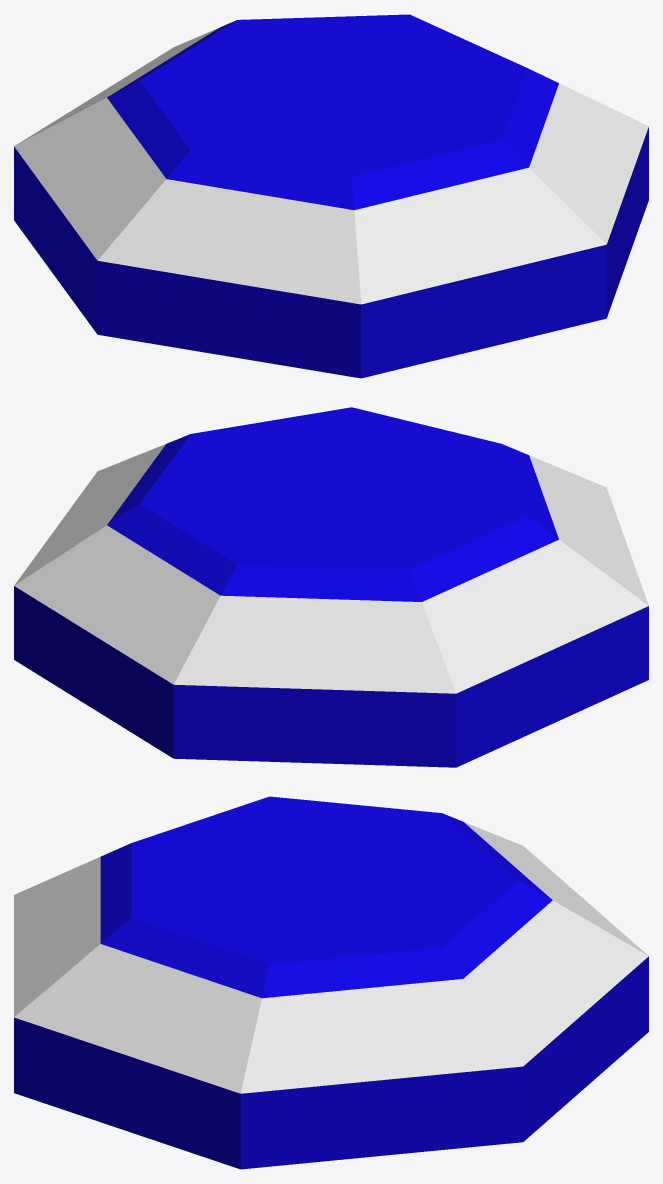
The model's file is SkinChangePlayform.fbx.
3 views of the same model, one above another, from view 1: azimuth 30°, elevation 25°; view 2: azimuth 150°, elevation 25°; view 3: azimuth 270°, elevation 25° (orthographic). The views are drawn at different scales.
Parts seen in each view (by area): view 1: Cylinder; view 2: Cylinder; view 3: Cylinder.
Boxes of the visible parts, x1,y1,x2,y2 form: Cylinder: [14, 14, 648, 378]; Cylinder: [14, 407, 648, 767]; Cylinder: [14, 796, 648, 1169].
Bounding box in the file's own units: 390 × 100 × 380.
